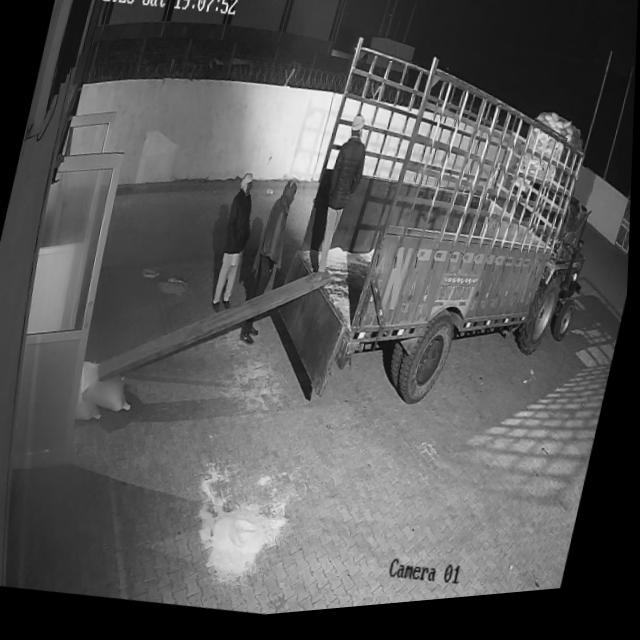sack: (77, 357, 143, 420)
